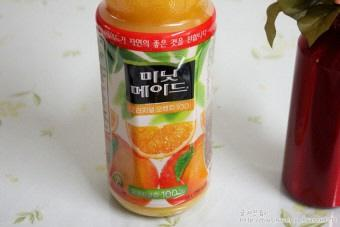minutemaid_org_orange: (99, 0, 219, 226)
